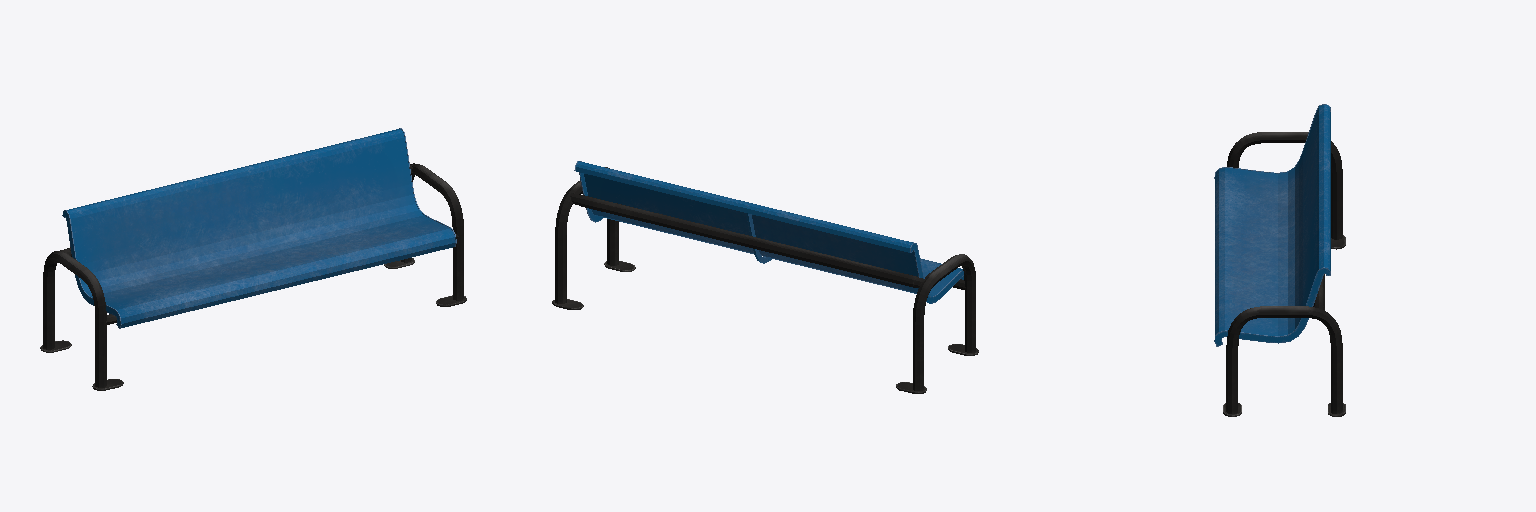
3 renders of one model, left to right at view 1: azimuth 30°, elevation 25°; view 2: azimuth 150°, elevation 25°; view 3: azimuth 270°, elevation 25°, orthographic.
Visible parts, largest first — view 1: Bench_66; view 2: Bench_66; view 3: Bench_66.
Boxes of the visible parts, <box> form: Bench_66: <box>40,128,466,390</box>; Bench_66: <box>552,161,978,393</box>; Bench_66: <box>1214,104,1345,416</box>.
Bounding box in the file's own units: 34.68 × 12.53 × 10.61.
Materials: 1 (1 with a texture image).